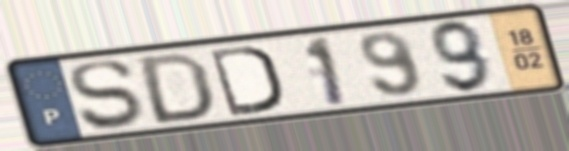1: (300, 33, 354, 107)
9: (429, 18, 497, 95), (355, 29, 426, 99)
D: (137, 49, 216, 126), (205, 42, 285, 118)
S: (66, 57, 146, 133)
